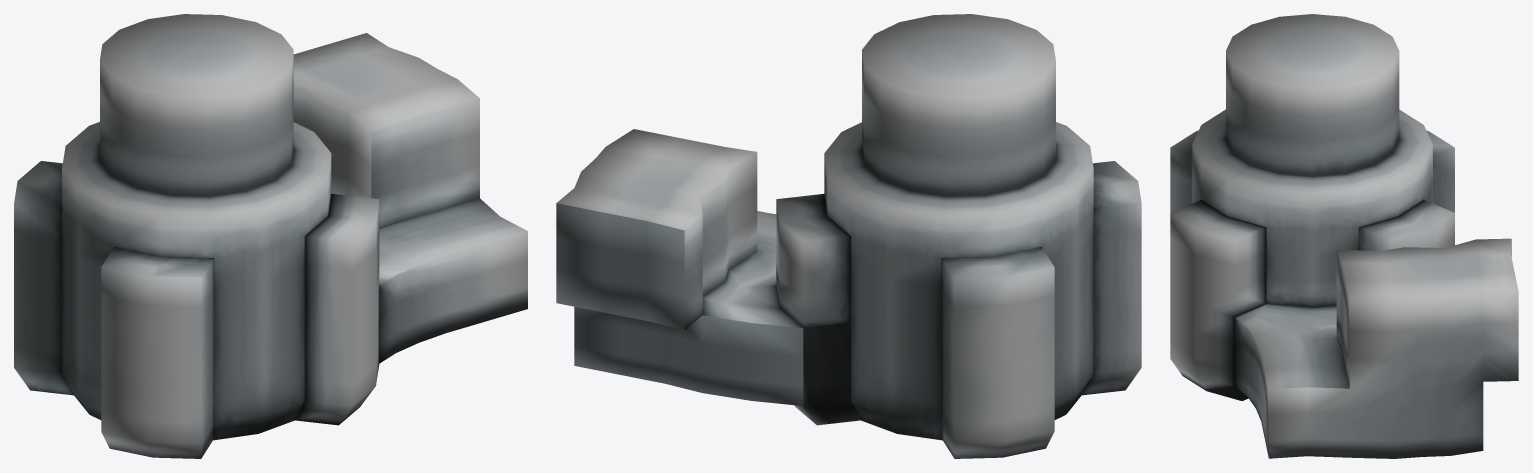
File: east_wing.DAE
3 renders of one model, left to right at view 1: azimuth 30°, elevation 25°; view 2: azimuth 150°, elevation 25°; view 3: azimuth 270°, elevation 25°, orthographic. The views are drawn at different scales.
Visible parts, largest first — view 1: East_Wing; view 2: East_Wing; view 3: East_Wing.
Part boxes in pixels (x1=…): East_Wing: x1=14, y1=14, x2=527, y2=458; East_Wing: x1=556, y1=14, x2=1141, y2=458; East_Wing: x1=1170, y1=14, x2=1518, y2=458.
Size of the model in its own units: 209 by 149 by 159.
